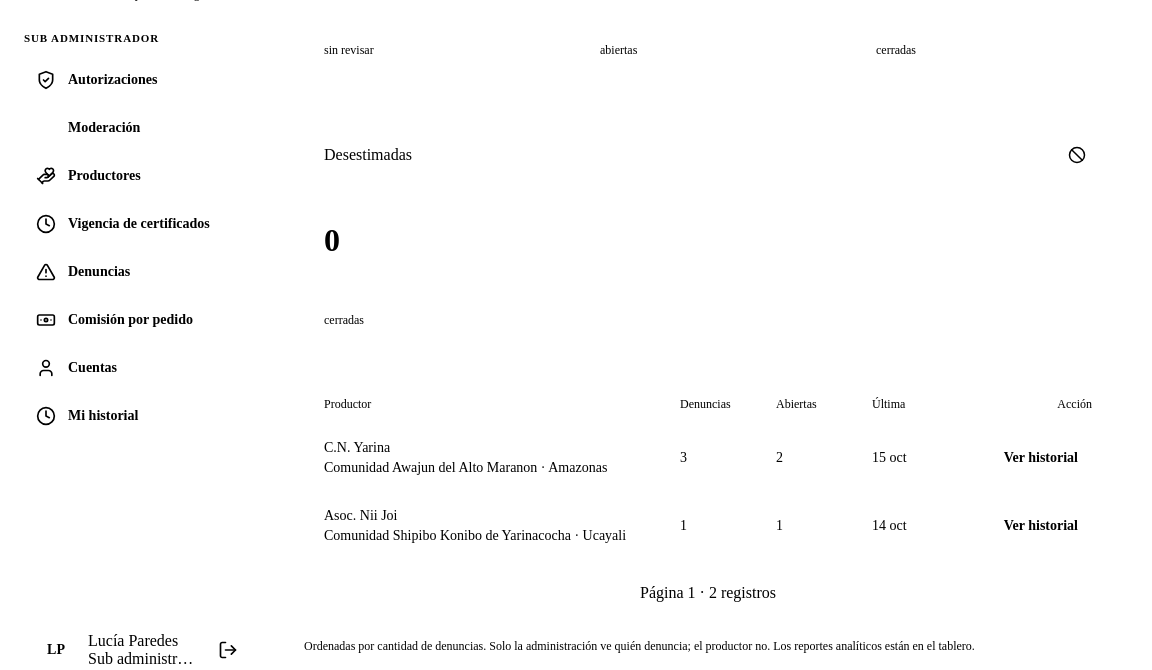
it: Denuncias contra productores (CCPIP-84) › la bandeja lista productores por cantidad de denuncias, separada del tablero
The image size is (1152, 670).
(page scrolled)
Expected: the cell "3" is shown, [680, 450, 687, 465]
Click the link with aria-label "Ver historial de denuncias de C.N. Yarina" at x=1041, y=457, box [1004, 450, 1078, 465]
(page scrolled)
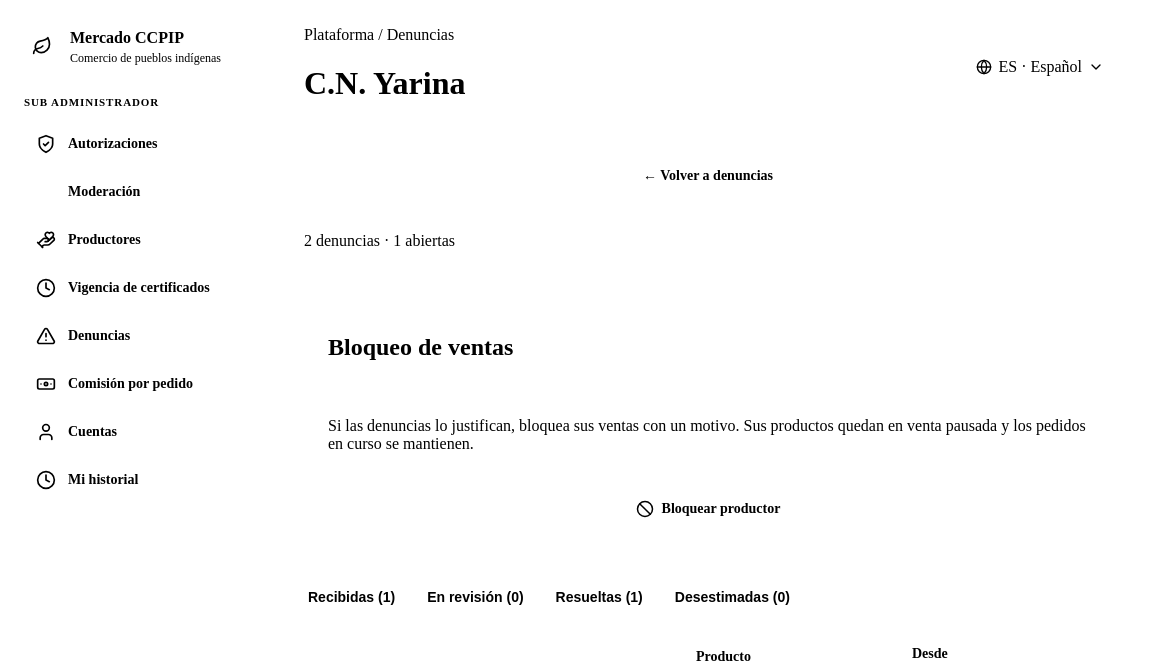
Expected: the heading "C.N. Yarina" is shown, [304, 65, 466, 101]
